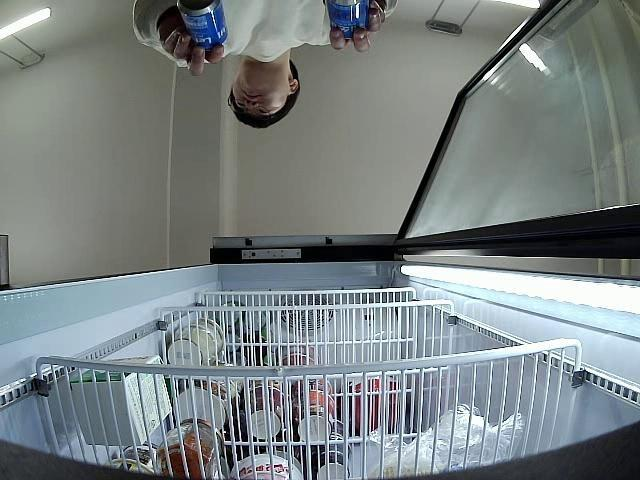15_letsbe: (176, 0, 228, 54), (324, 0, 371, 42)
